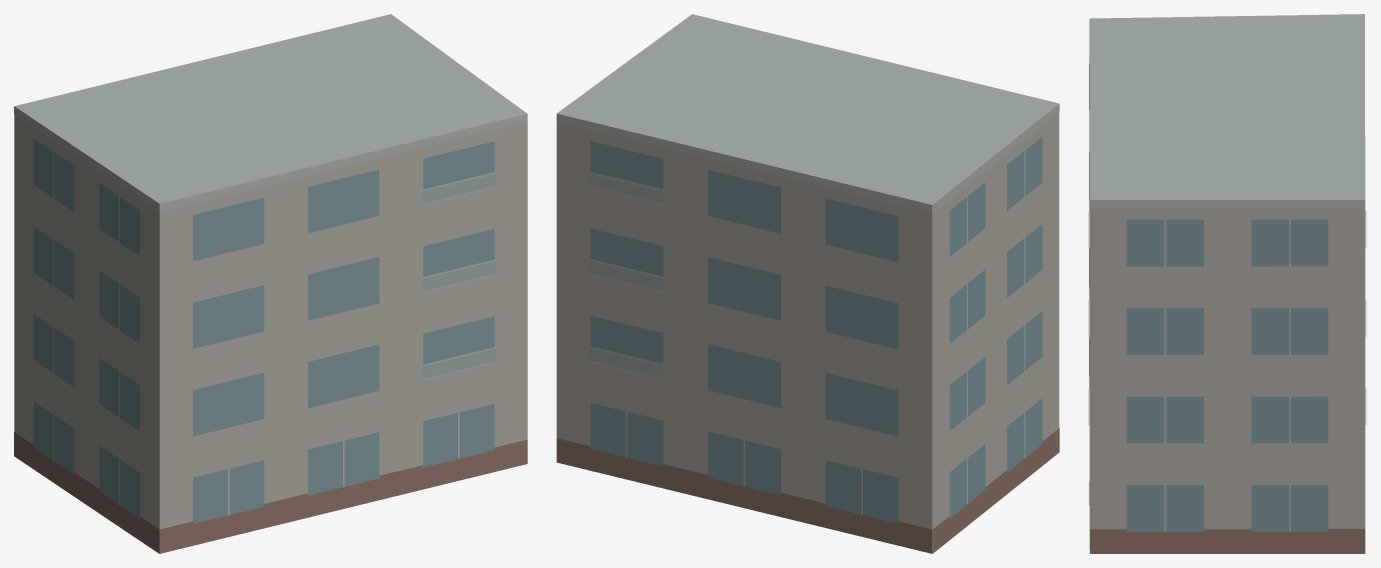
The model's file is survey-upis-32763898.glb.
The picture shows the model from 3 angles, left to right: view 1: azimuth 30°, elevation 25°; view 2: azimuth 150°, elevation 25°; view 3: azimuth 270°, elevation 25°; orthographic projection.
Parts seen in each view (by area): view 1: survey-upis-32763898.tmp; view 2: survey-upis-32763898.tmp; view 3: survey-upis-32763898.tmp.
Part boxes in pixels (x1=…): survey-upis-32763898.tmp: x1=14, y1=14, x2=527, y2=553; survey-upis-32763898.tmp: x1=556, y1=14, x2=1059, y2=553; survey-upis-32763898.tmp: x1=1088, y1=14, x2=1366, y2=553.
Size of the model in its own units: 11.63 by 10.3 by 7.35.
